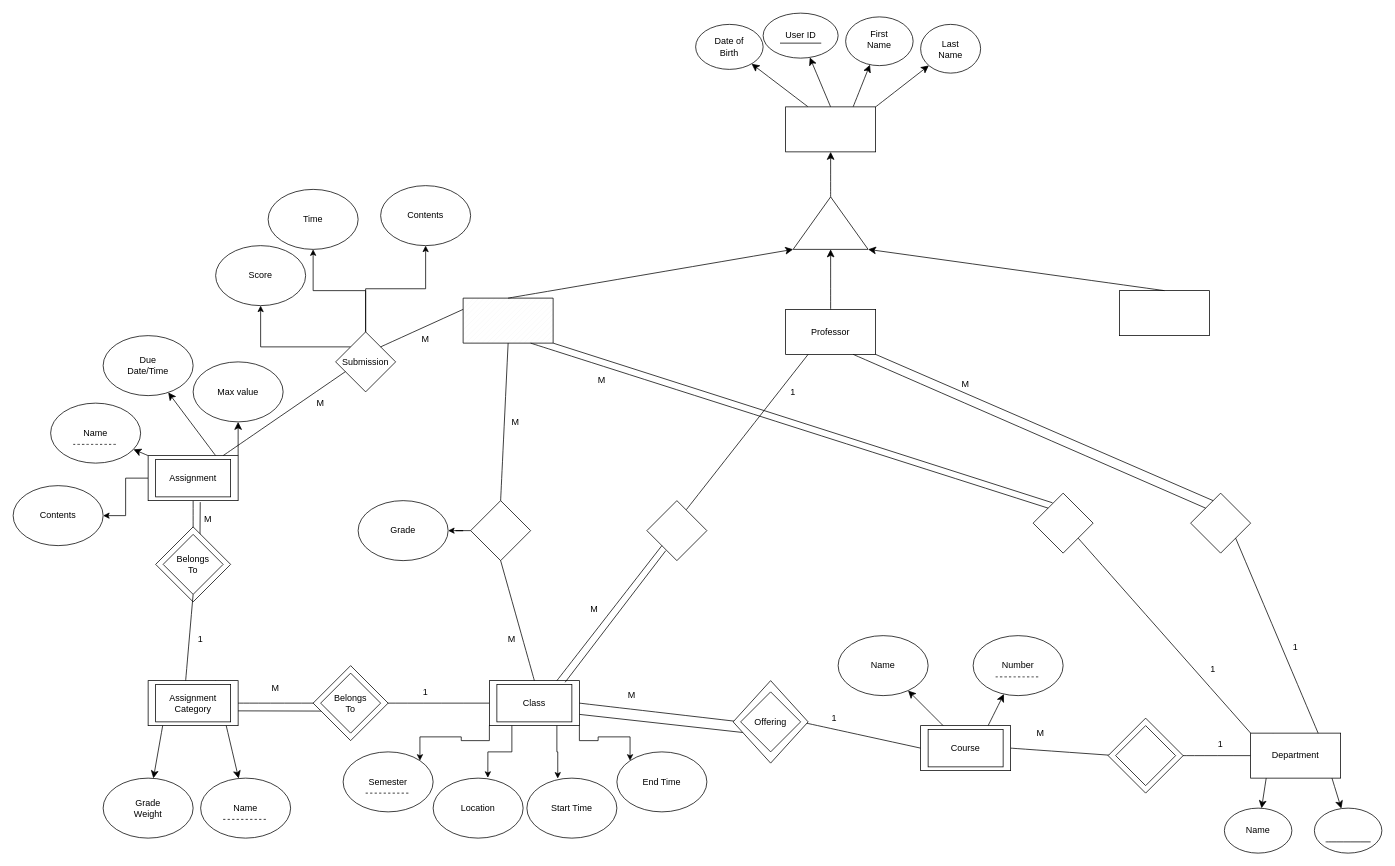
Some shapes in this 1395 by 866 pixel diagram are drawn without their labels. Here are the shapes that lost their labels. From the top down, the centre of each, then its label:
point (830, 129): User
point (507, 320): Student
point (1164, 313): Administrator
point (500, 530): Enrolled In
point (676, 530): Taught By
point (1062, 522): Major In
point (1220, 522): Works For
point (1145, 755): Listings
point (1348, 830): Subject Abbreviation
